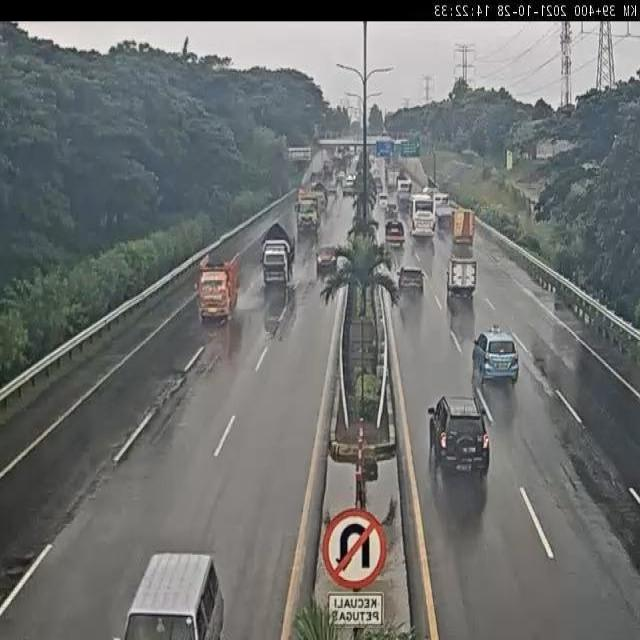Bus: (408, 193, 436, 239)
Car: (428, 394, 491, 475), (472, 324, 519, 382), (396, 265, 424, 296), (316, 246, 338, 276), (384, 200, 398, 218), (310, 169, 322, 186), (378, 192, 388, 209)
Truck: (195, 252, 240, 324), (260, 222, 294, 286), (446, 256, 478, 302), (296, 195, 322, 238), (451, 208, 475, 246), (433, 192, 457, 229), (384, 218, 405, 248), (396, 178, 415, 210), (310, 181, 328, 207), (387, 167, 399, 189), (322, 160, 333, 178)
